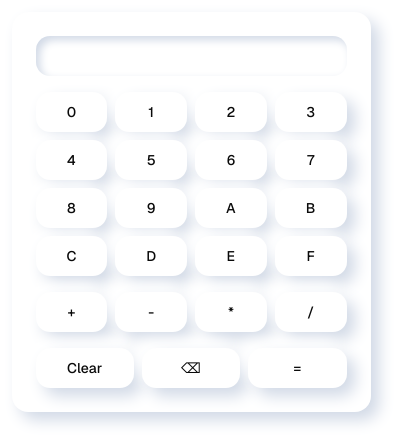
Test: Hex Calculator - Basic UI Tests › lets you click buttons and shows the value in the input
Click the button "A" at {"x": 231, "y": 208}, box [195,188,267,228]
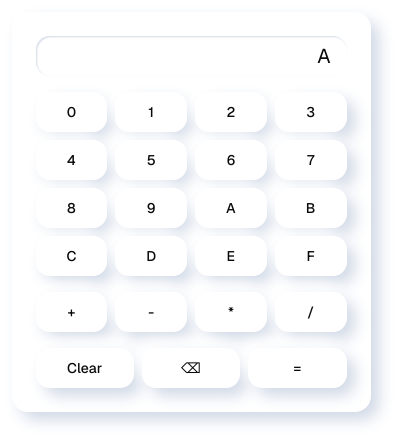
Now the field holds "A", box [36,36,347,76]
Click the button "+" at {"x": 72, "y": 312}, box [36,292,108,332]
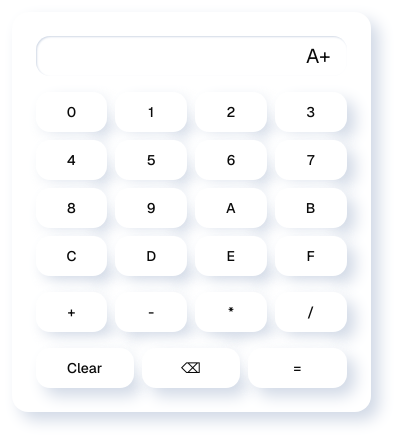
Now the field holds "A+", box [36,36,347,76]
Click the button "1" at {"x": 151, "y": 112}, box [115,92,187,132]
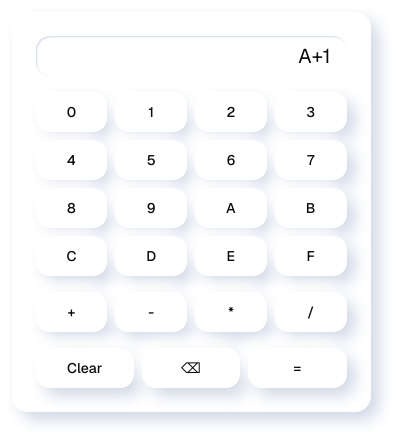
Now the field holds "A+1", box [36,36,347,76]
